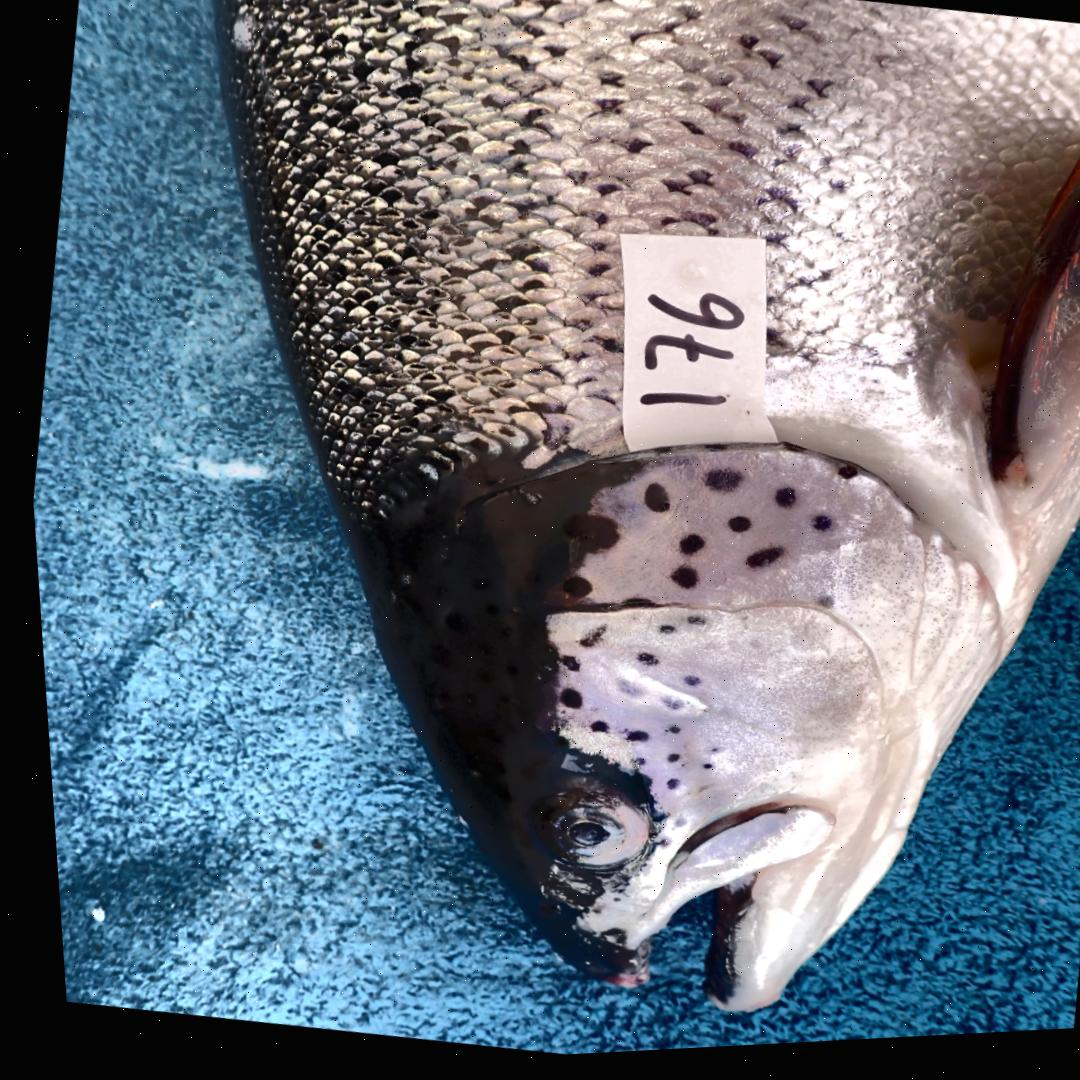spot: (555, 518, 610, 557), (696, 475, 736, 498), (736, 554, 775, 575), (636, 488, 662, 518), (553, 580, 583, 603), (660, 573, 689, 595), (568, 631, 595, 652), (671, 540, 696, 561), (549, 693, 571, 714), (607, 684, 634, 701), (719, 523, 743, 540), (767, 495, 788, 514), (649, 701, 675, 716), (830, 471, 850, 487), (804, 523, 823, 539), (626, 658, 648, 671), (551, 661, 569, 676), (615, 736, 637, 747), (579, 726, 597, 737), (673, 681, 690, 692), (807, 604, 823, 615), (677, 622, 695, 631), (654, 784, 668, 795), (649, 631, 665, 639), (655, 759, 669, 768), (655, 731, 669, 739), (623, 763, 633, 772), (690, 770, 701, 775)
